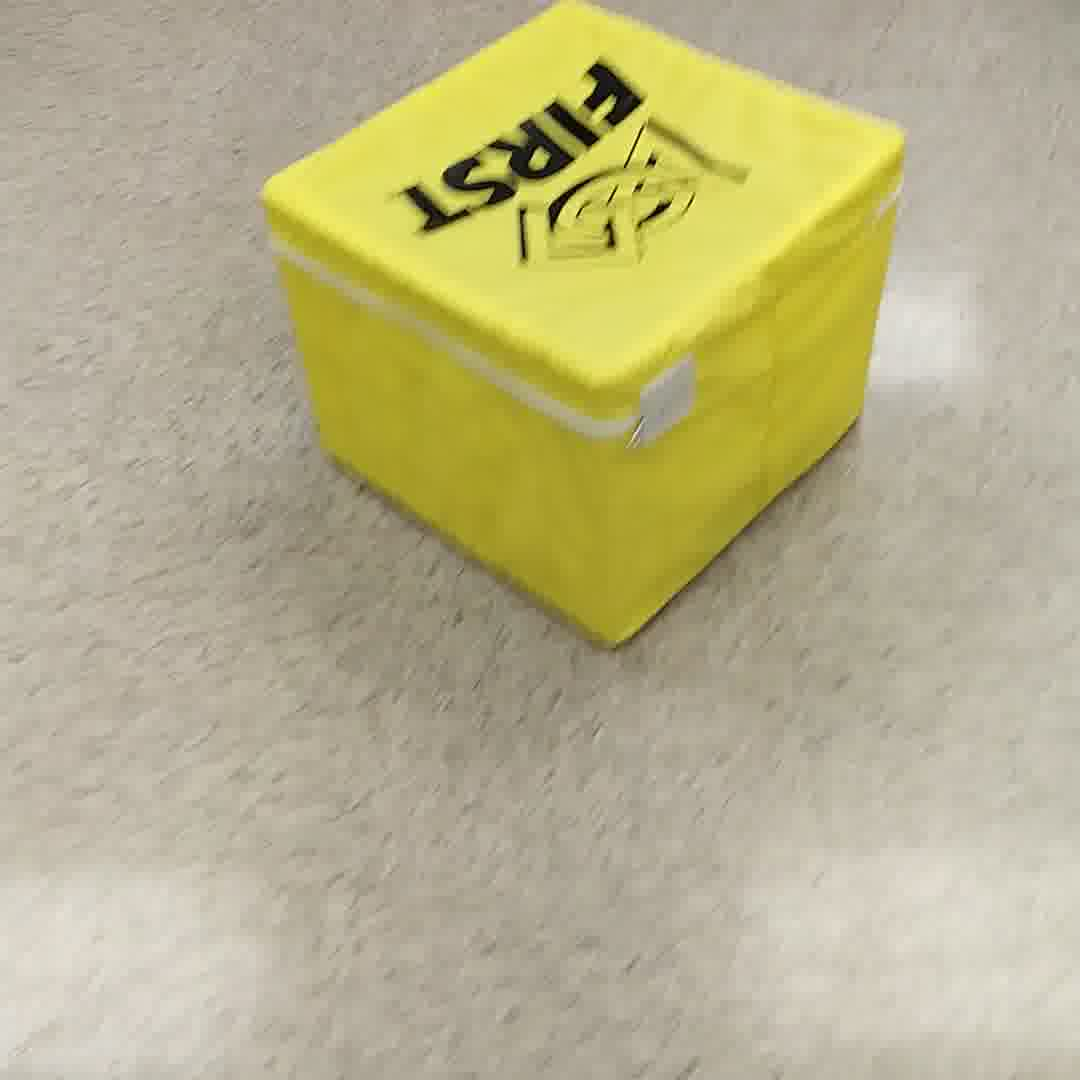box: (261, 3, 909, 655)
